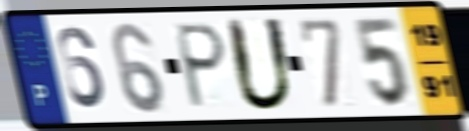5: (348, 14, 414, 110)
6: (110, 19, 168, 117), (55, 24, 109, 113)
7: (296, 16, 345, 111)
P: (174, 21, 230, 112)
U: (223, 16, 298, 115)
